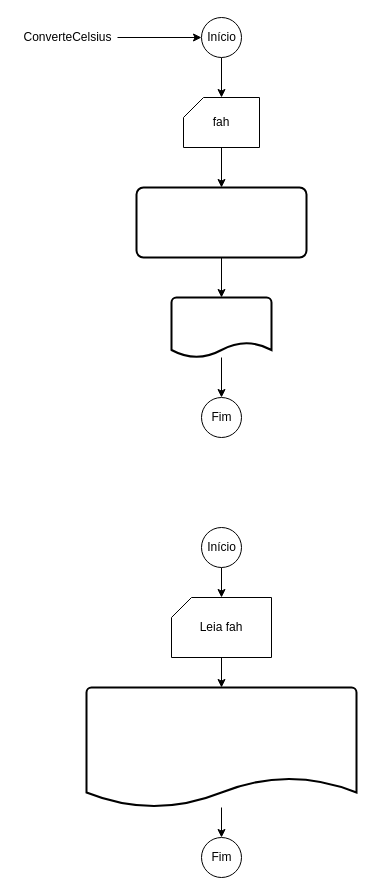
The diagram is 374 pixels wide and 895 high, and some of its shapes have lost their labels. The shapes that lost their labels are listed below. From the top down, each one's box as (x1, y1, x2, y2) in pixels, then its label:
(135, 186, 307, 258): float celsius celsius = ( ( fah - 32 ) * 5 ) / 9 )
(170, 296, 272, 358): Retorna celsius
(85, 686, 357, 808): Escreva << fah << "°F = " << ConverteCelsius(fah) << "°C" << endl
